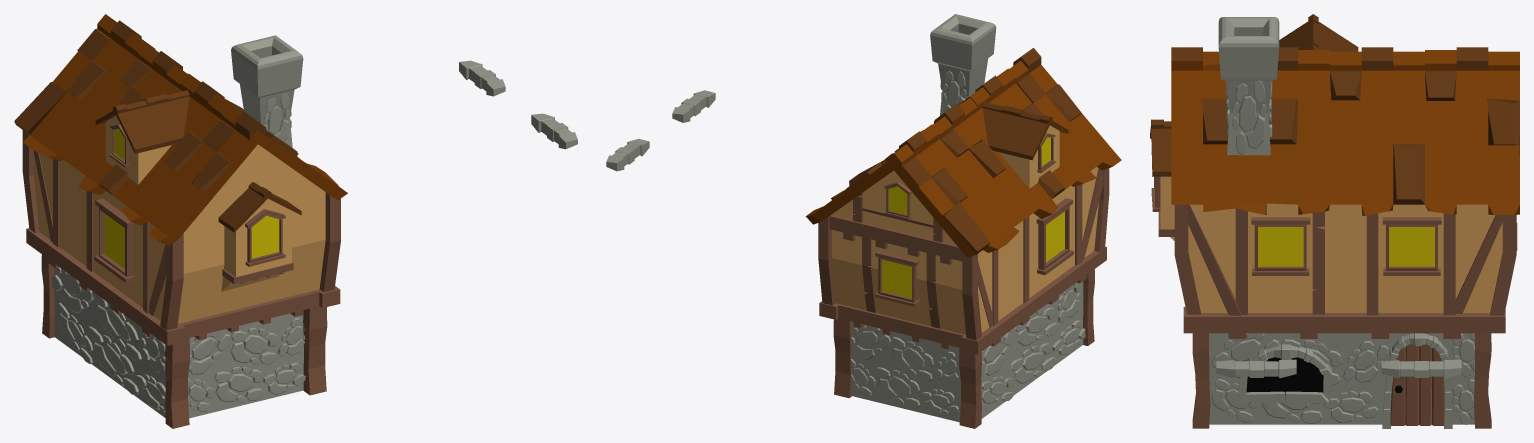
Rendered from MediHouse1.fbx.
The picture shows the model from 3 angles, left to right: view 1: azimuth 30°, elevation 25°; view 2: azimuth 150°, elevation 25°; view 3: azimuth 270°, elevation 25°; orthographic projection. The views are drawn at different scales.
Visible parts, largest first — view 1: Sphere, Cube.010, Cube.022; view 2: Sphere, Cube.010, Cube.022; view 3: Sphere, Cube.010, Cube.022.
Boxes of the visible parts, box(x1,y1,x2,y2) form: Sphere: box(14, 14, 347, 428); Cube.010: box(459, 60, 505, 96); Cube.022: box(531, 113, 577, 149); Sphere: box(806, 14, 1121, 428); Cube.010: box(606, 138, 649, 171); Cube.022: box(672, 90, 715, 122); Sphere: box(1150, 14, 1519, 428); Cube.010: box(1381, 359, 1461, 378); Cube.022: box(1216, 359, 1296, 378).
Size of the model in its own units: 1570 by 1127 by 990.
